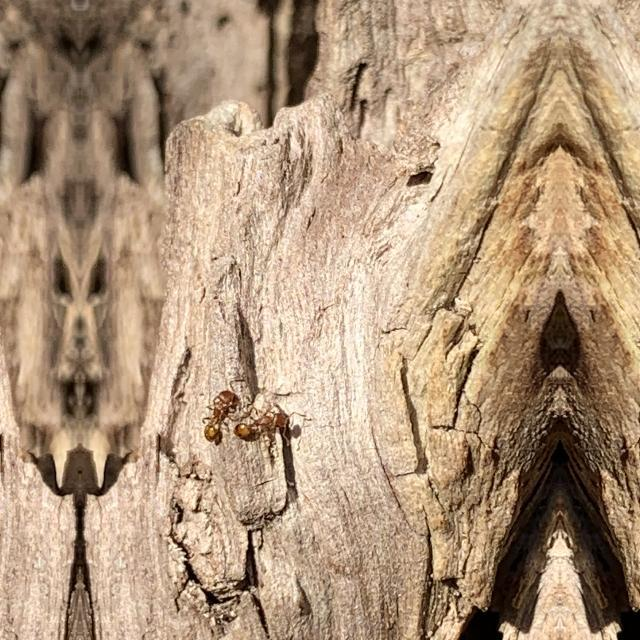Temnothorax: (227, 391, 315, 454), (181, 386, 235, 448)
